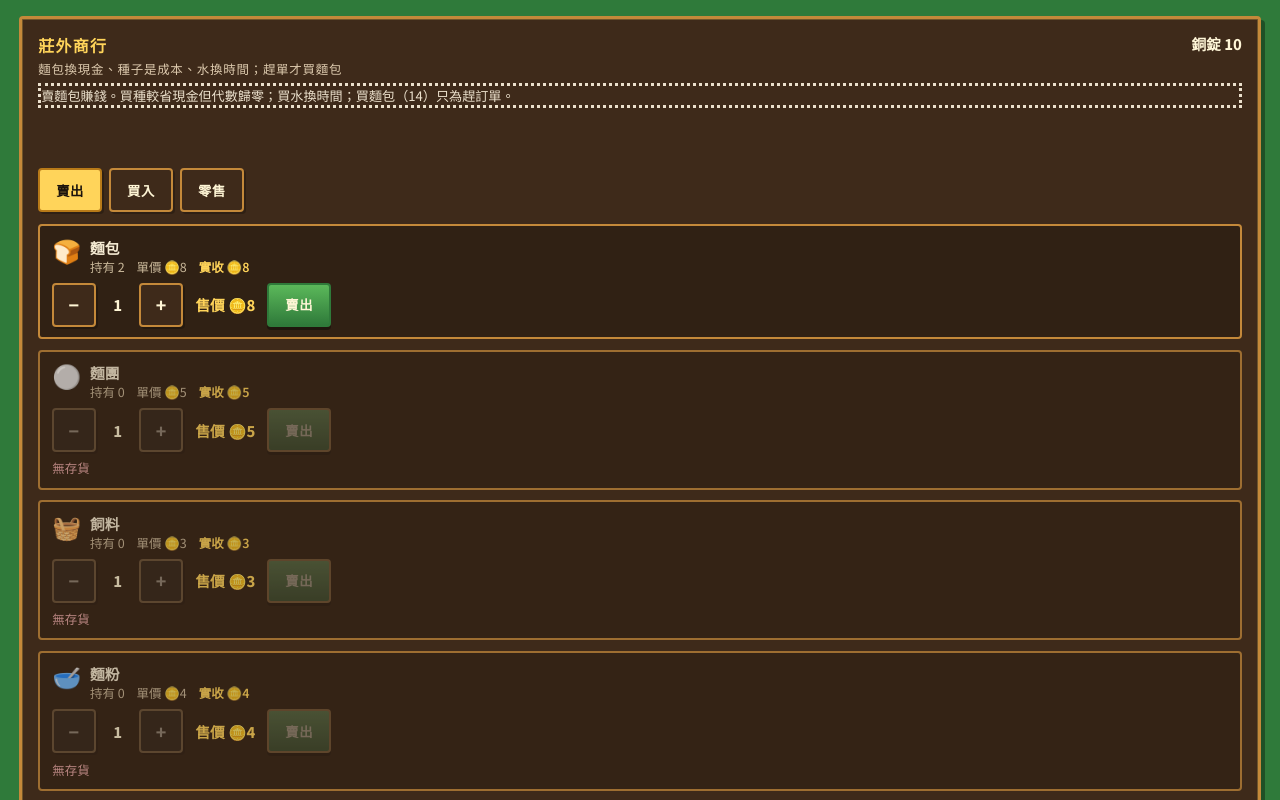
MarketPanel › shows retail offers and disables accept when bread is insufficient
Click the tab with test id "market-tab-retail": (212, 190) [180,168,244,212]
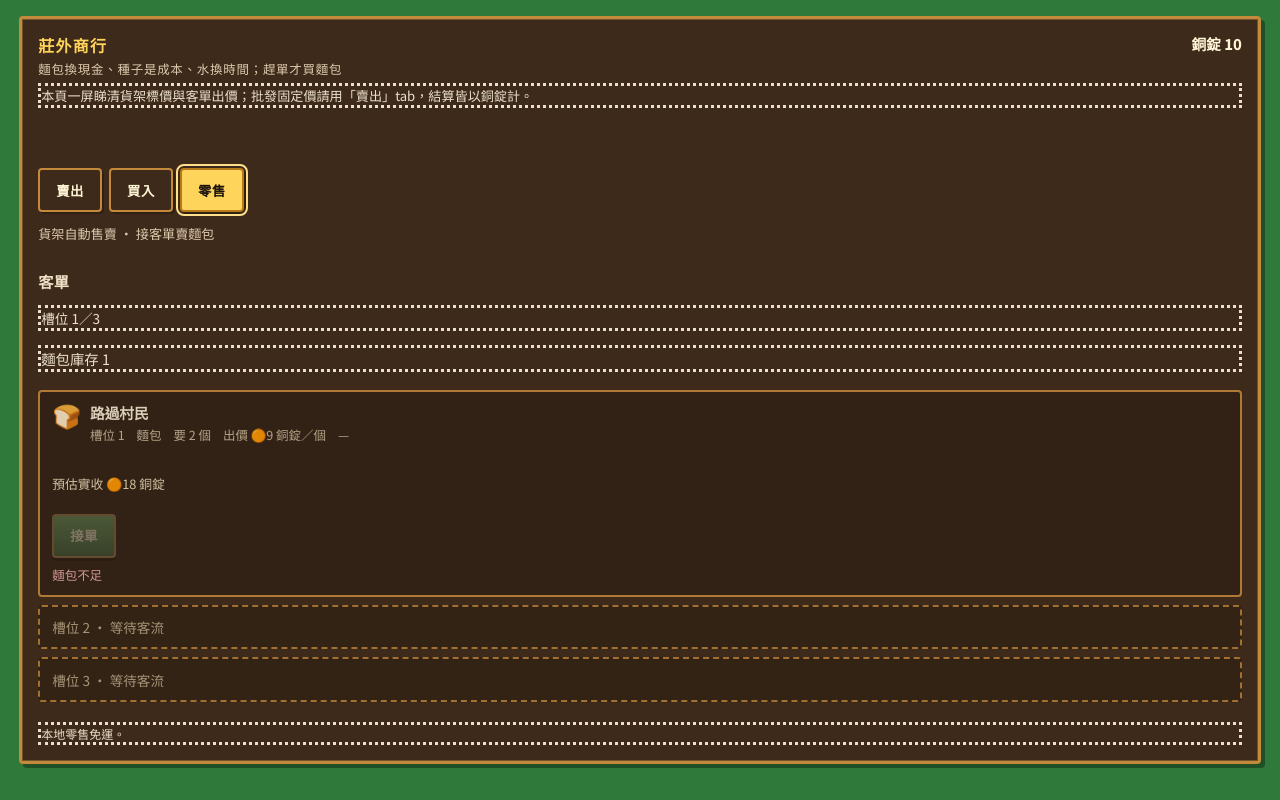
Expected: the panel with test id "market-retail-panel" is shown
Expected: the button with test id "retail-offer-accept" is disabled, [52,514,116,558]
Expected: the text with test id "retail-offer-need-stock" reads "麵包不足", [52,566,102,584]
